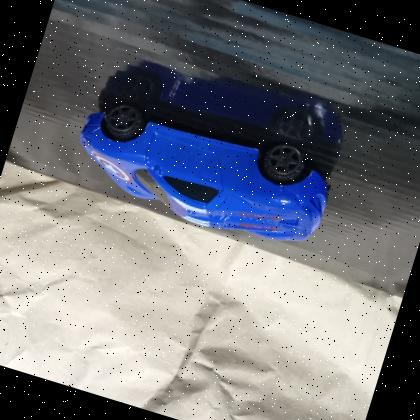Car: (58, 76, 349, 264)
